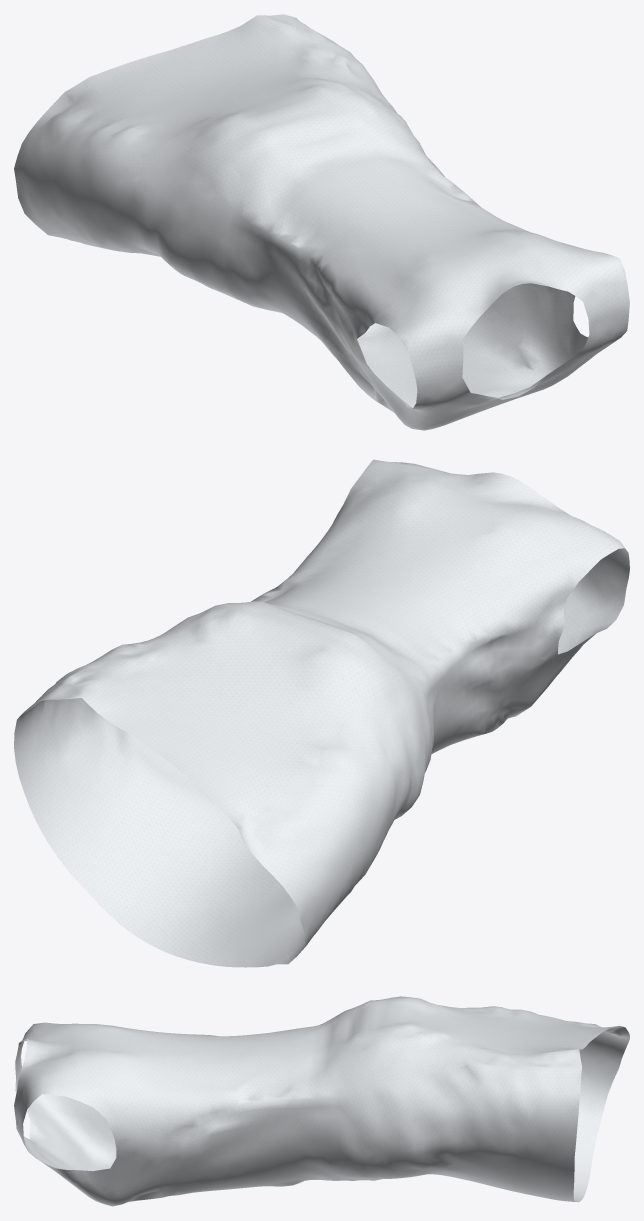
The model's file is dress2-iso.obj.
The picture shows the model from 3 angles, top to bottom: view 1: azimuth 30°, elevation 25°; view 2: azimuth 150°, elevation 25°; view 3: azimuth 270°, elevation 25°; orthographic projection. The views are drawn at different scales.
Size of the model in its own units: 0.3657 by 0.2622 by 0.7881.
1 material, 1 textured.
